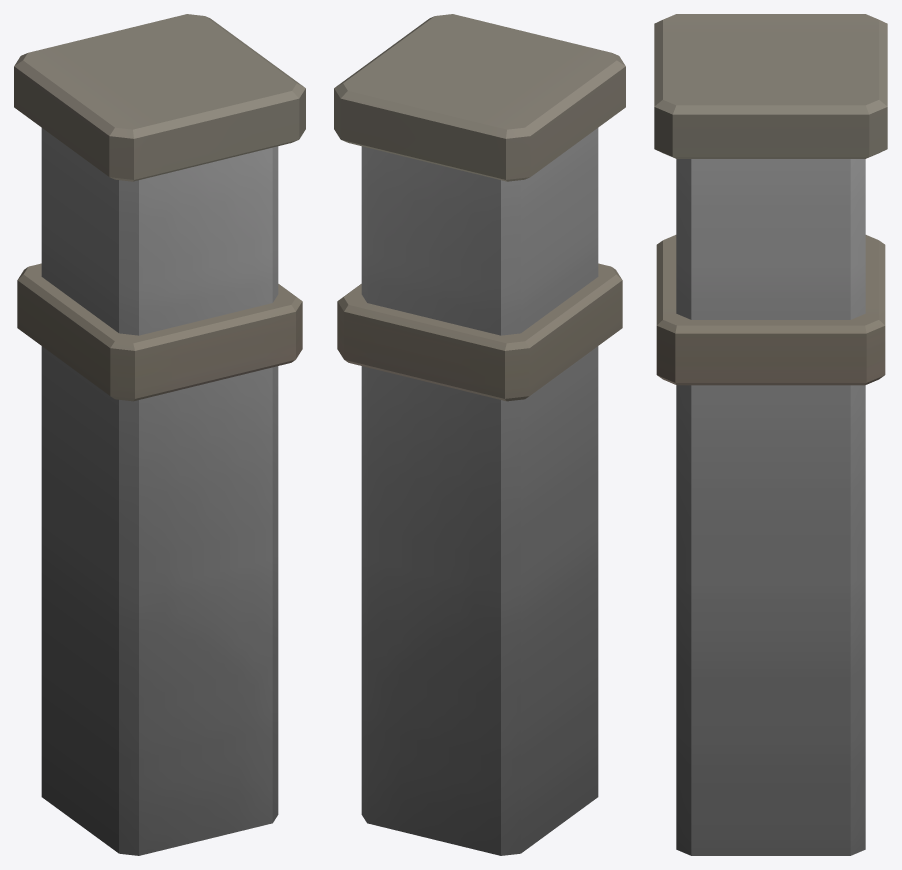
Rendered from WallFence_3_2_A.fbx.
3 views of the same model, side by side, from view 1: azimuth 30°, elevation 25°; view 2: azimuth 150°, elevation 25°; view 3: azimuth 270°, elevation 25° (orthographic). The views are drawn at different scales.
Visible parts, largest first — view 1: WallFence_3_2_A; view 2: WallFence_3_2_A; view 3: WallFence_3_2_A.
Part boxes in pixels (x1,y1,x2,y2): WallFence_3_2_A: [14, 14, 305, 855]; WallFence_3_2_A: [334, 14, 625, 855]; WallFence_3_2_A: [654, 14, 887, 855].
Bounding box in the file's own units: 57.58 × 206 × 57.58.
